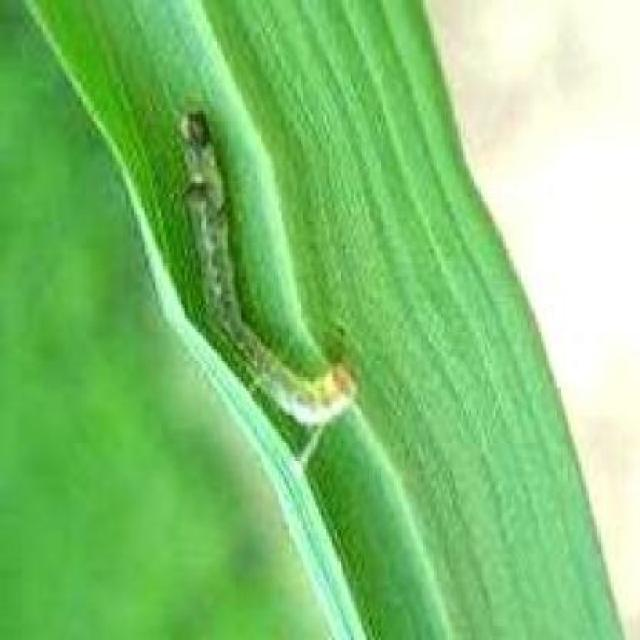leaf-folder: (162, 101, 386, 428)
